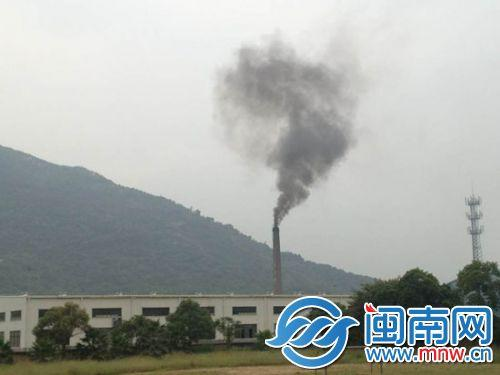dust: (210, 60, 370, 225)
